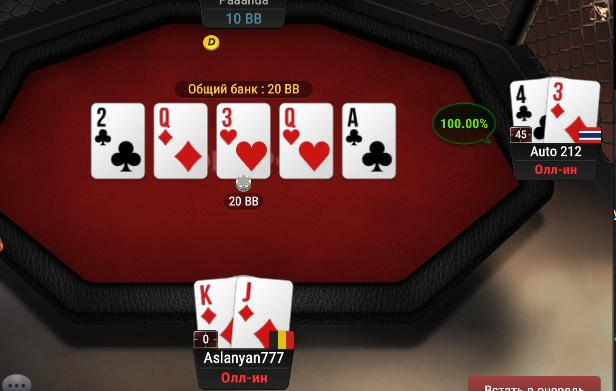2c: (92, 104, 144, 177)
3d: (547, 77, 600, 142)
3h: (217, 104, 271, 178)
4c: (511, 79, 548, 142)
Ac: (343, 103, 396, 177)
Jd: (235, 275, 293, 354)
Kd: (192, 277, 234, 350)
Qd: (154, 104, 206, 179)
Qh: (281, 103, 333, 178)
